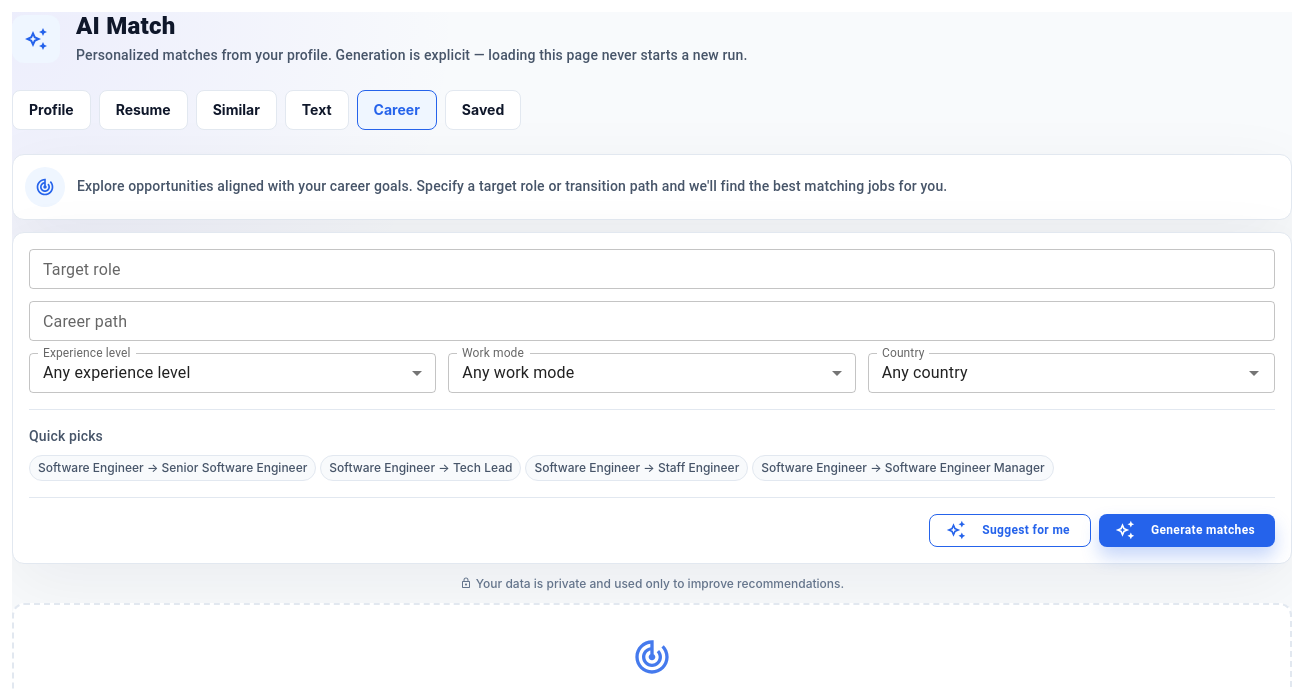
Scenario: AiMatchPage › clears a selected career quick pick when clicked again or via Clear
Check: the heading "Quick picks" is shown, box [29,426,103,447]
Click the button "Software Engineer → Senior Software Engineer": (173, 468) [29,455,316,481]
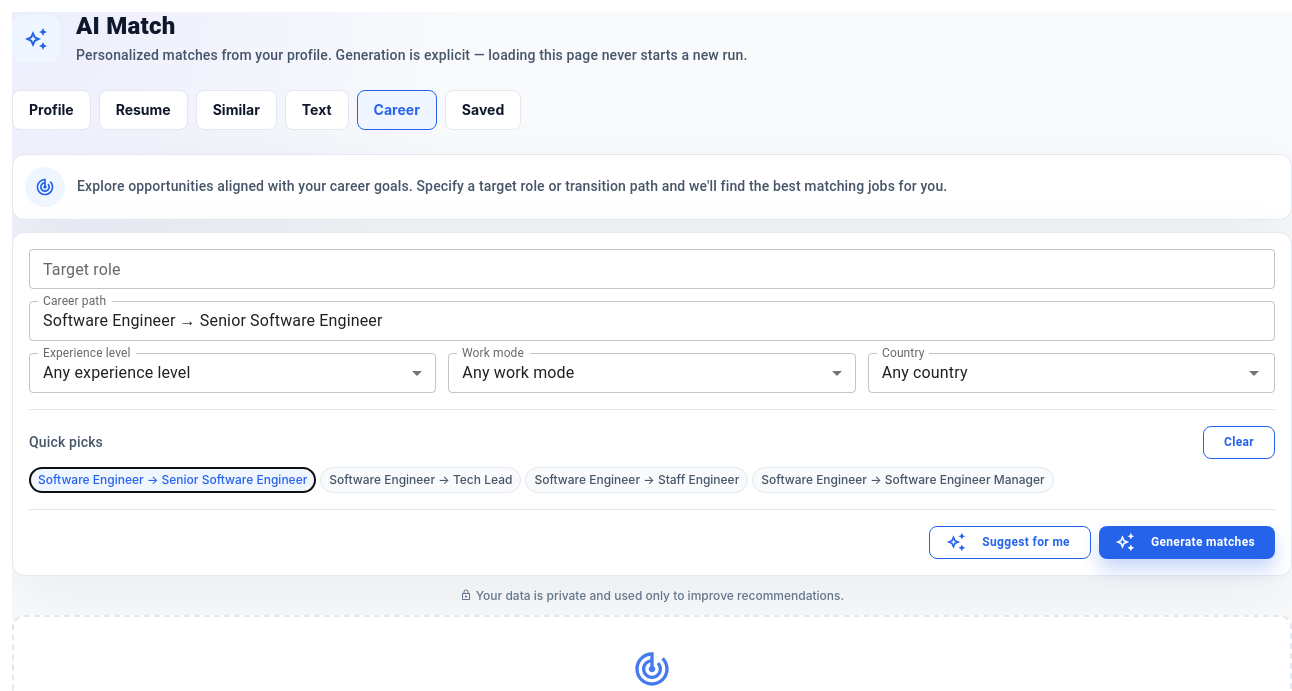
Click the button "Software Engineer → Senior Software Engineer": (173, 480) [29,467,316,493]
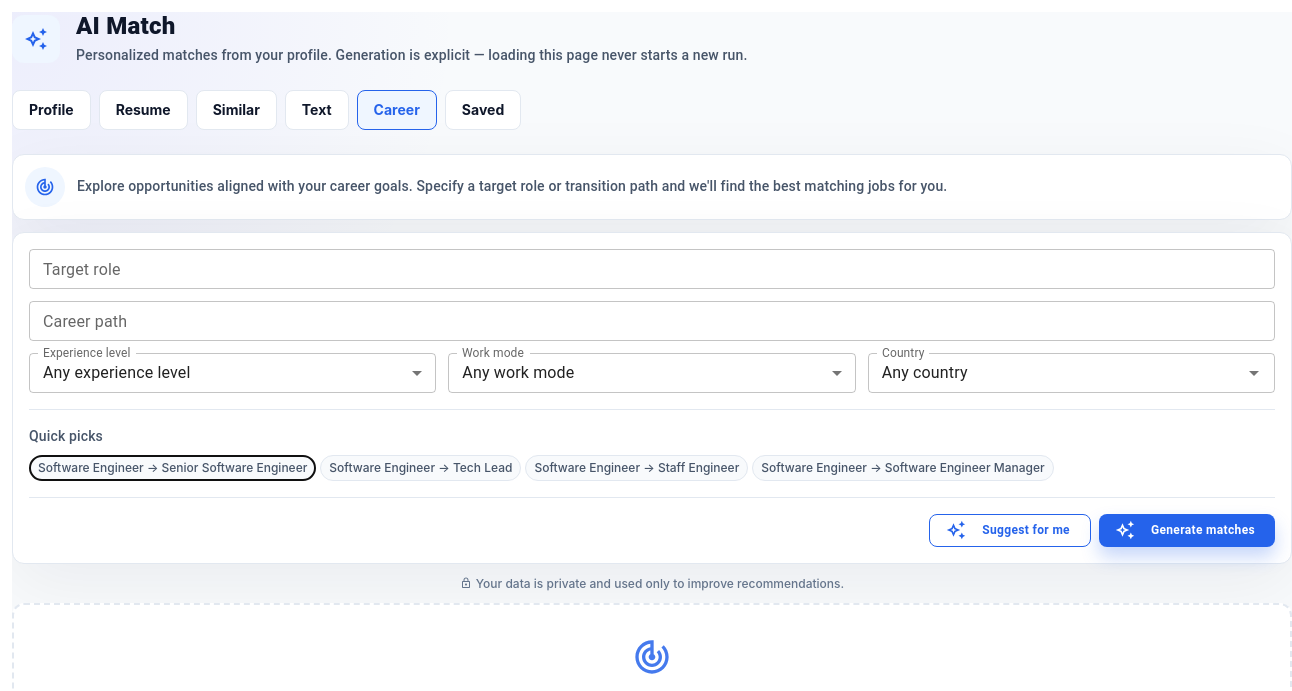
Check: the field labelled "Career path" is empty, box [29,301,1275,341]
Check: the button "Clear" is gone
Click the button "Software Engineer → Senior Software Engineer": (173, 468) [29,455,316,481]
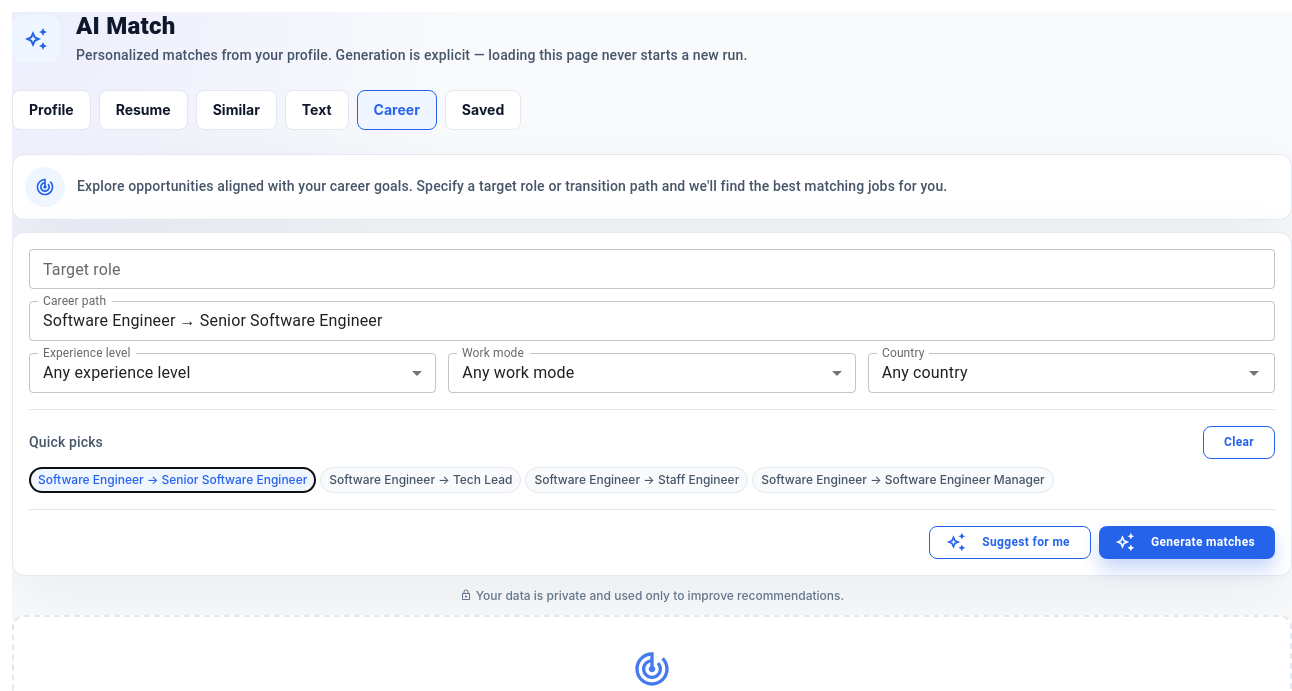
Click the button "Clear": (1239, 442) [1203,426,1275,459]
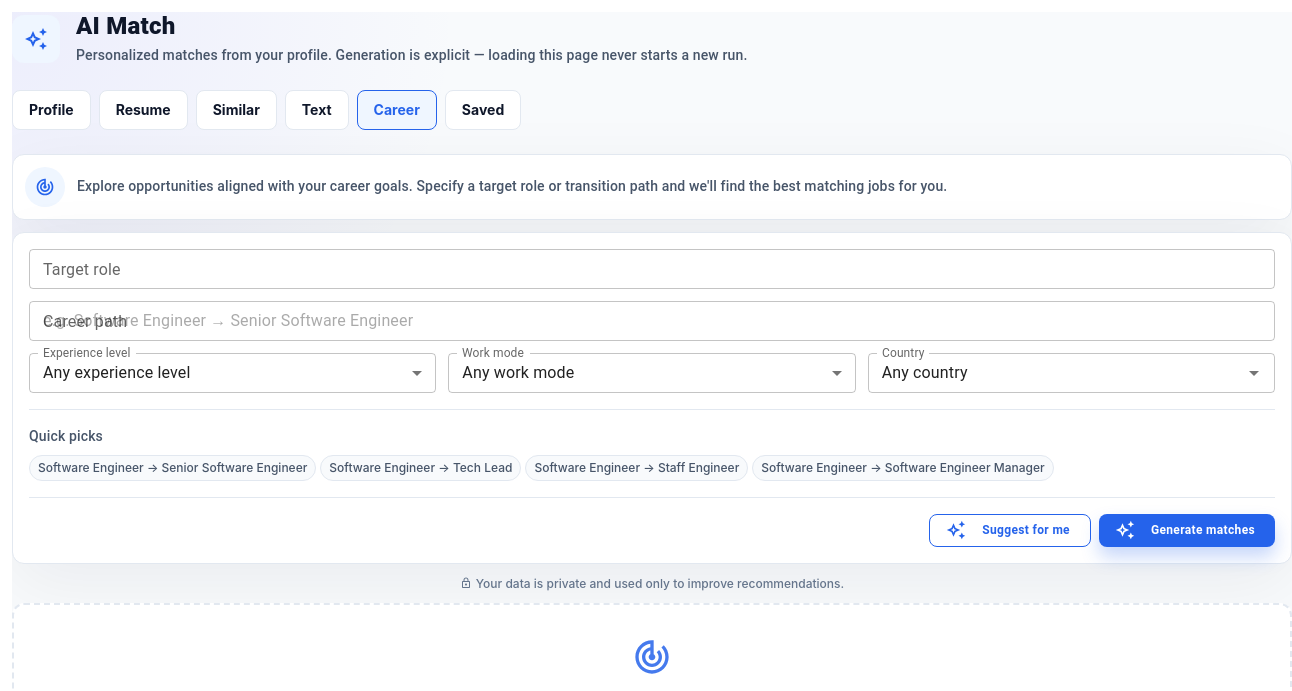
Check: the field labelled "Career path" is empty, box [29,301,1275,341]
